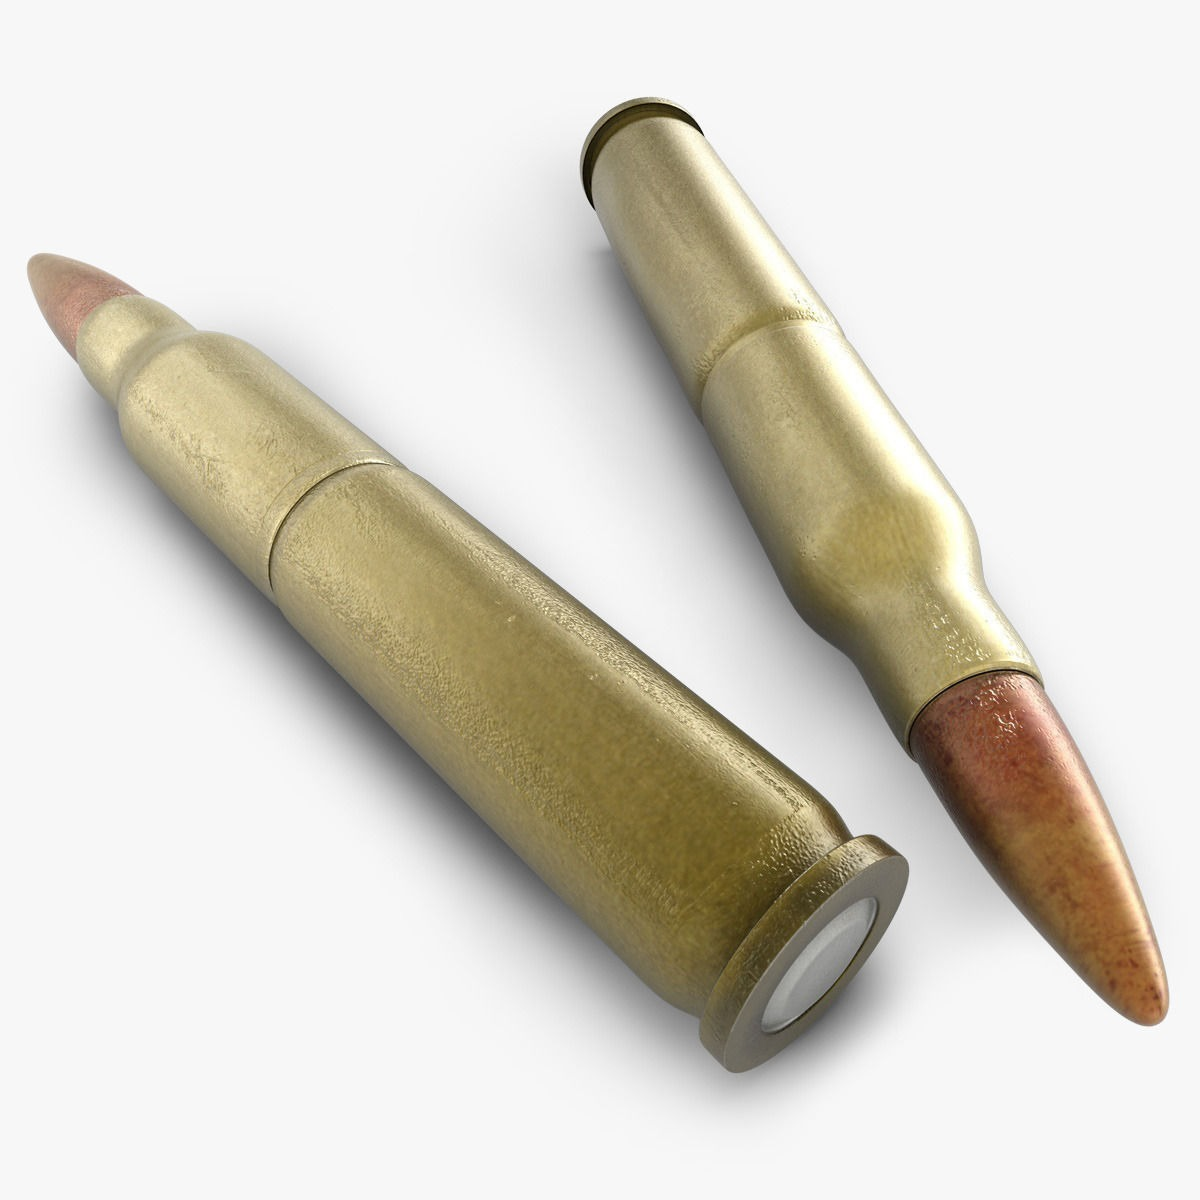bullet: (5, 223, 915, 1090), (562, 89, 1190, 1033)
